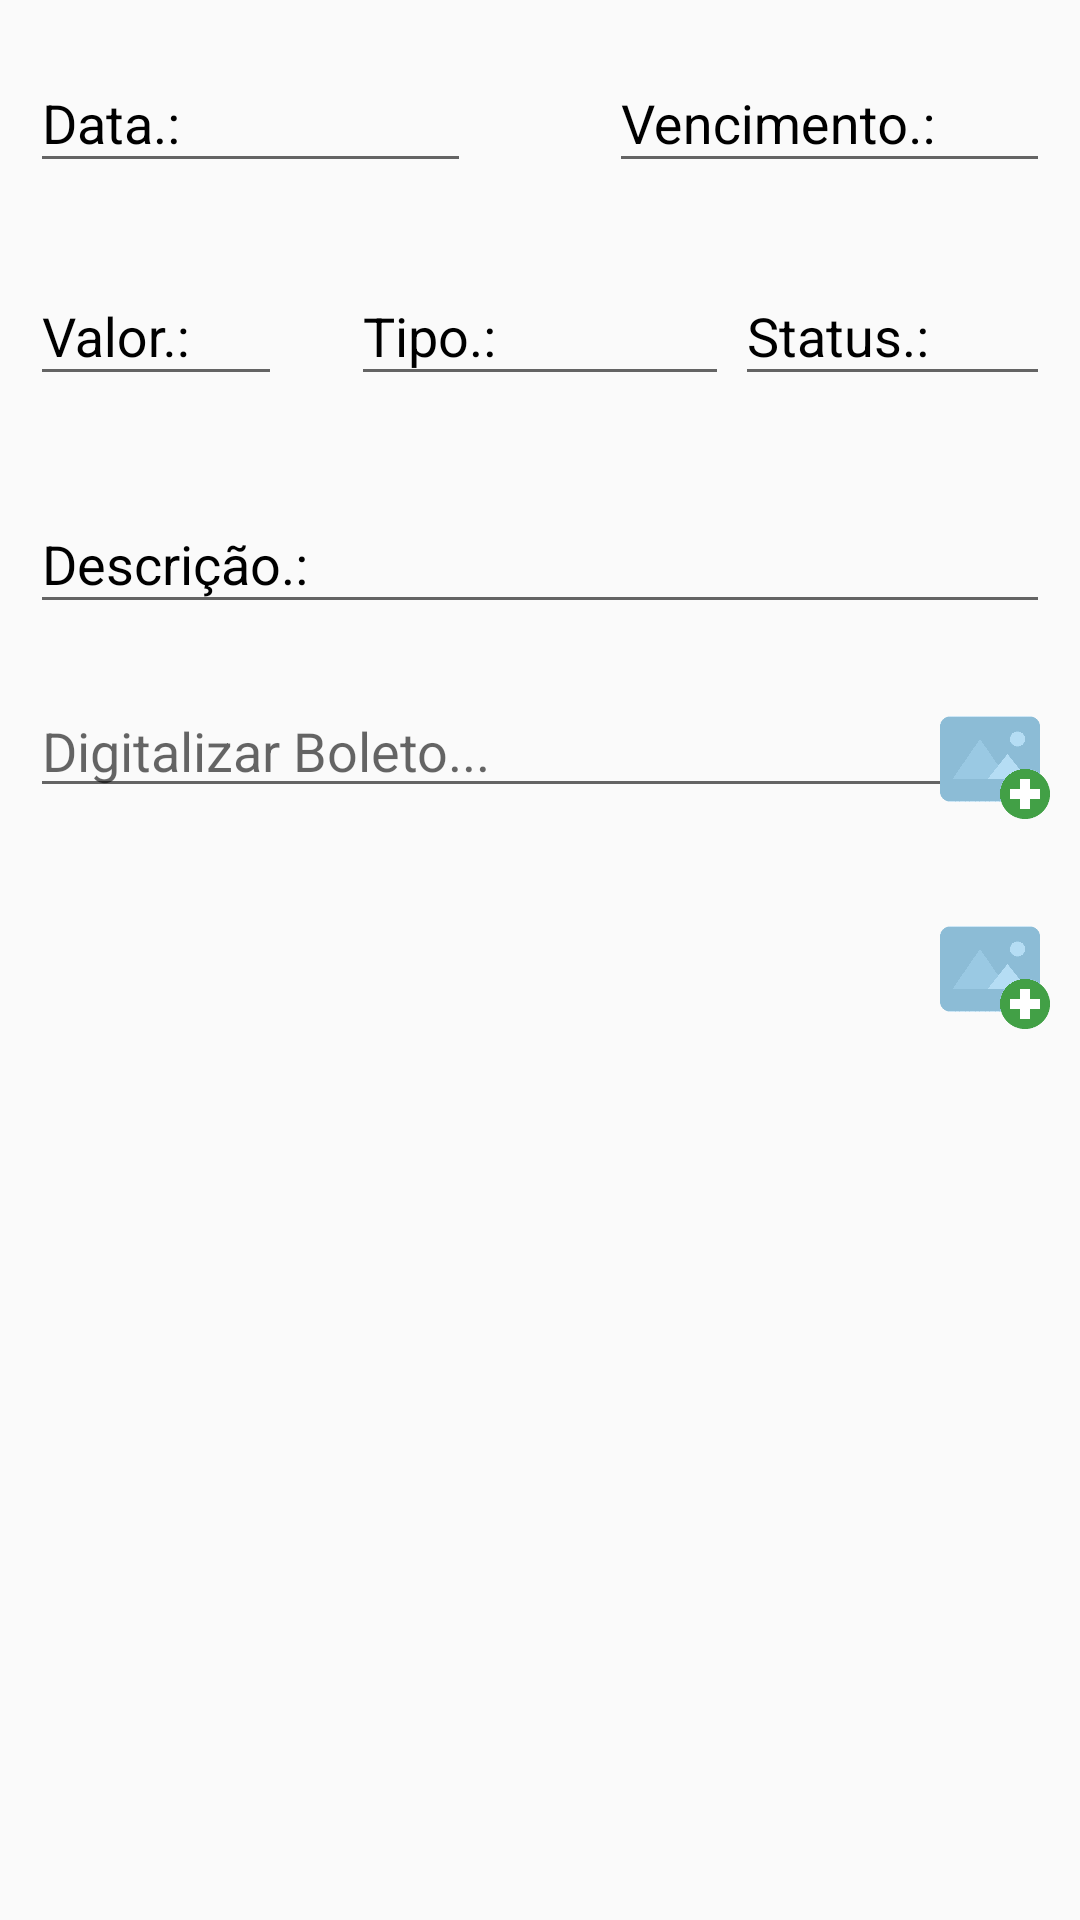

Named icons in this screenshot (1080 x 1920) and their bounding boxes, [x1,y1,x2,y2]:
add im: [930,716,1050,819], [940,926,1050,1029]
